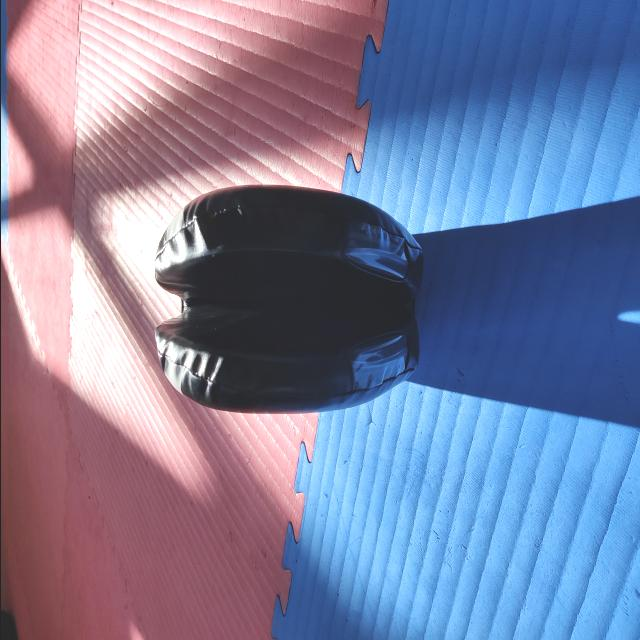paddle: (147, 178, 426, 420)
